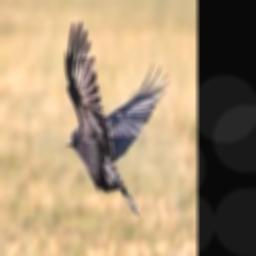Crow: (65, 20, 169, 215)
